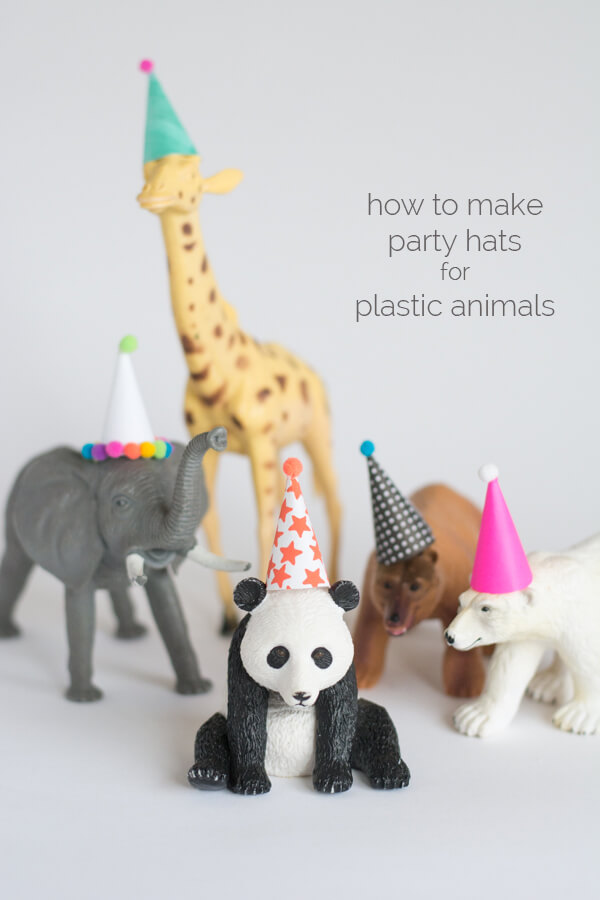cone: (367, 456, 436, 568), (265, 476, 331, 591), (470, 477, 533, 594), (143, 72, 199, 166), (102, 353, 155, 445)
sphere: (479, 463, 499, 483), (283, 457, 303, 476), (119, 335, 137, 353), (105, 441, 124, 458), (124, 443, 142, 459), (152, 440, 166, 458), (140, 442, 155, 458), (360, 440, 375, 456), (92, 444, 106, 460), (140, 60, 153, 73), (82, 443, 92, 459)
